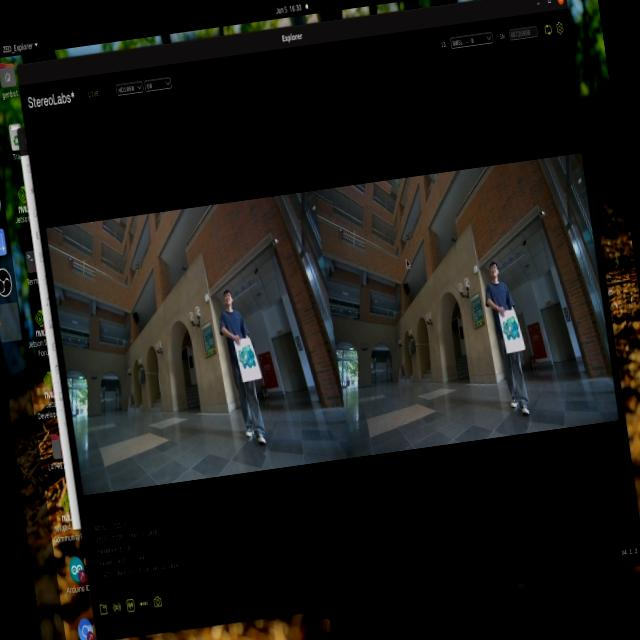green: (498, 311, 522, 348), (234, 340, 256, 380)
